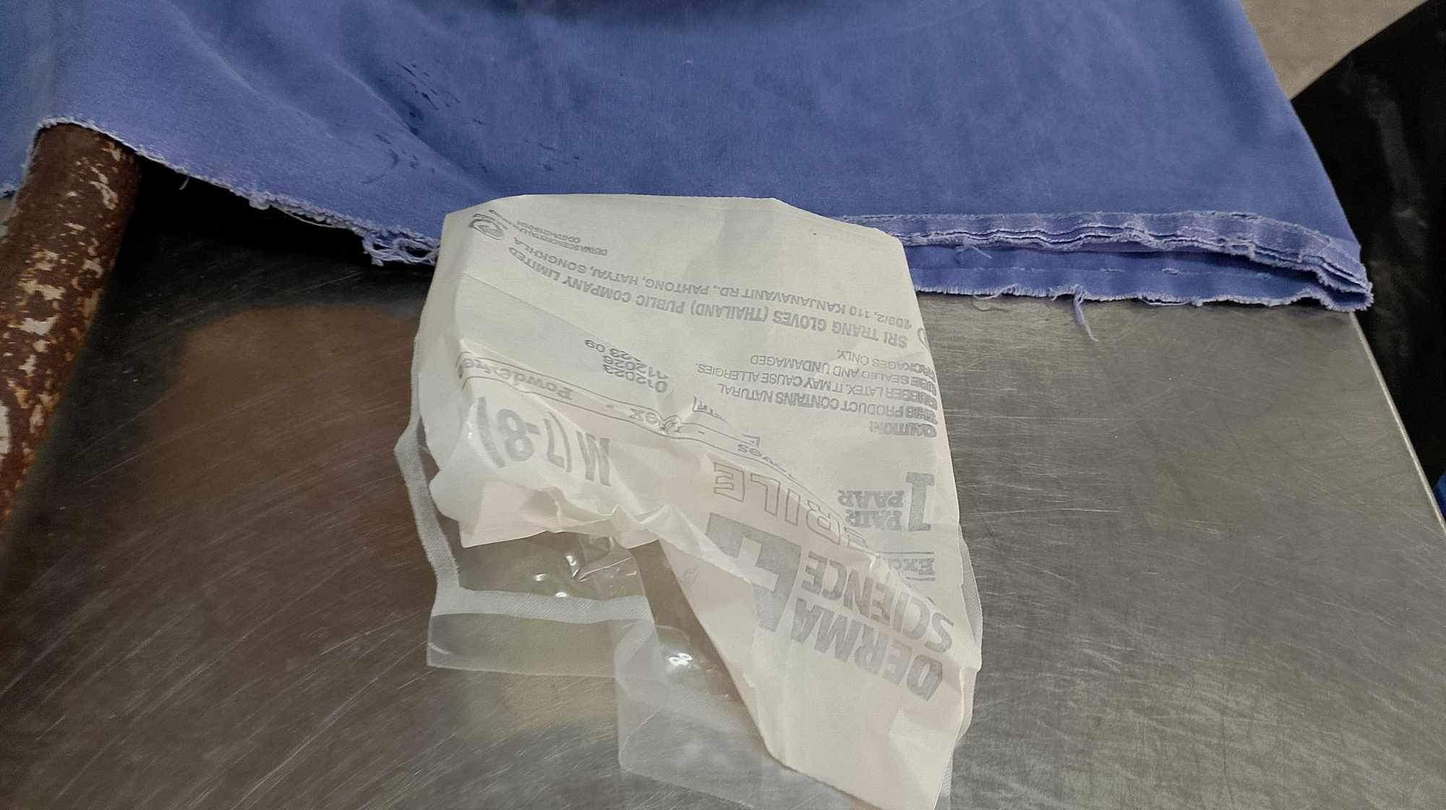Infectious: (401, 191, 986, 806)
